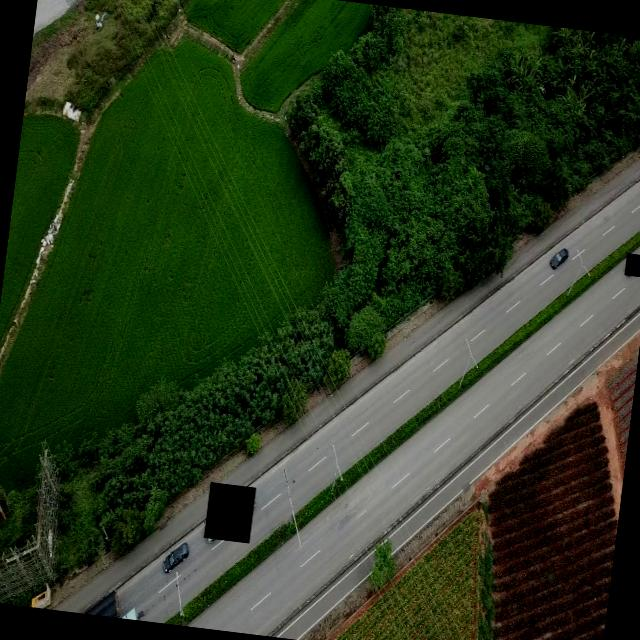car: (161, 538, 189, 574), (548, 244, 568, 268)
